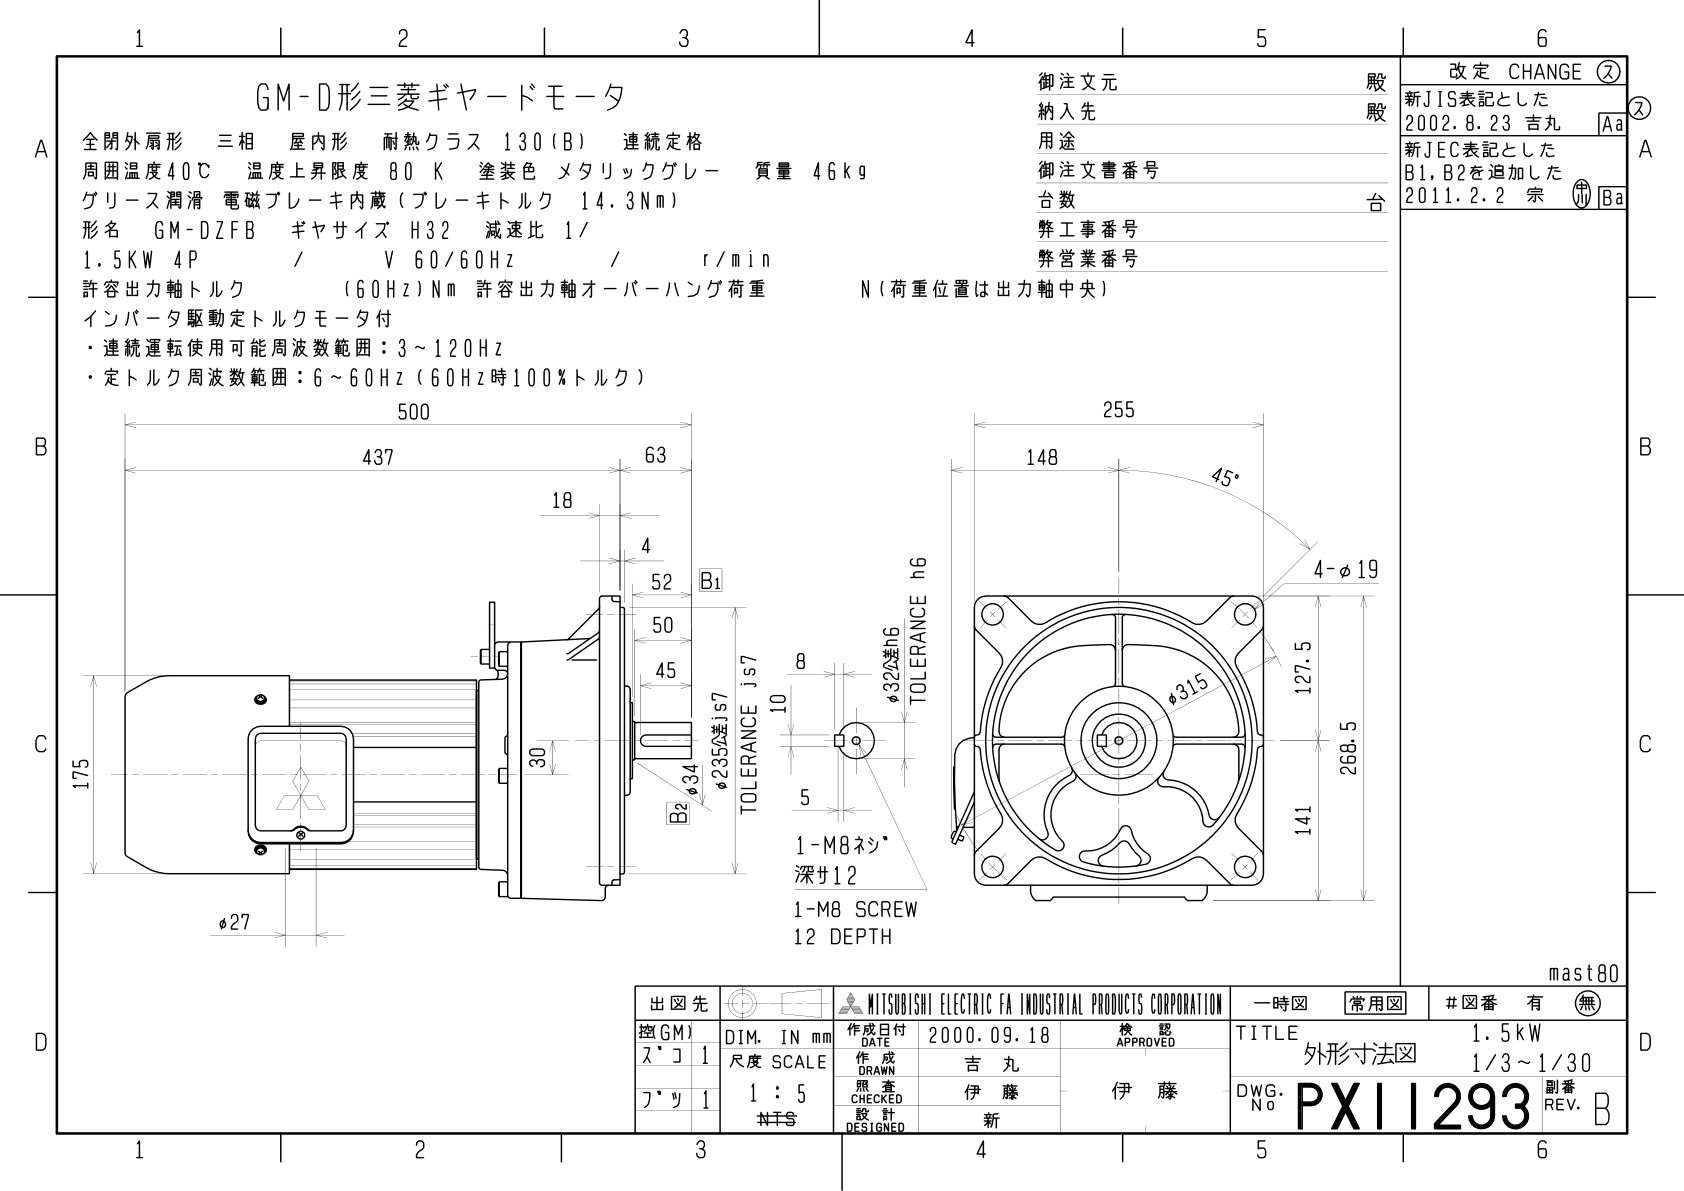GM_D_インバータ屋内_三相_フランジ: (1, 1, 1678, 1179)
